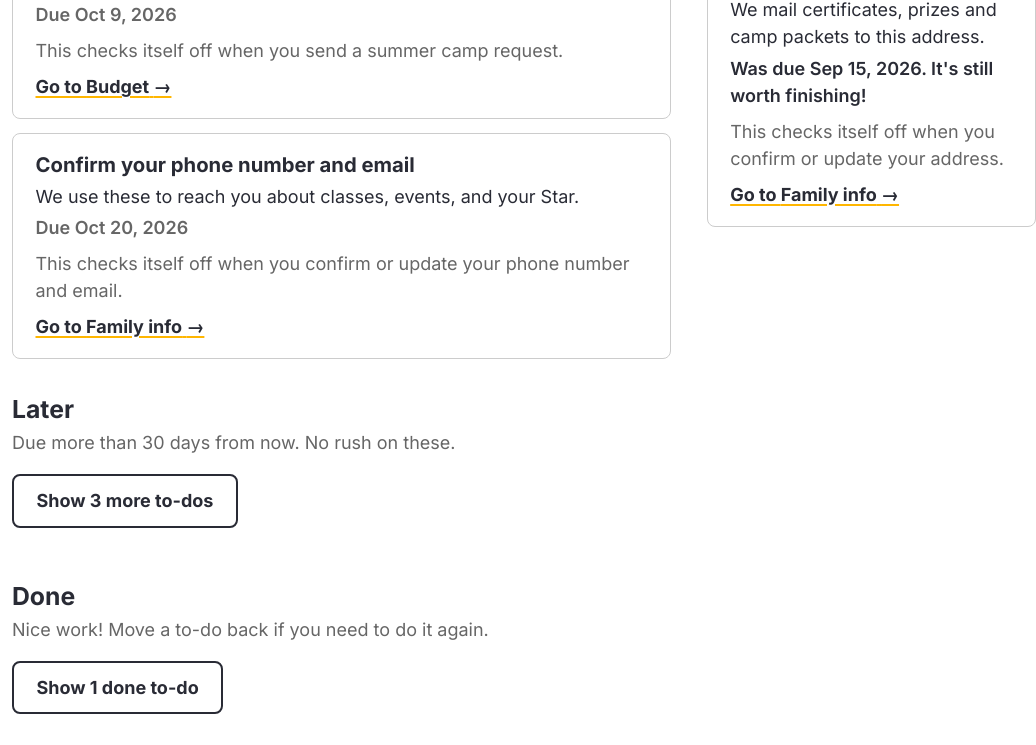
Test case: TodosTab › moves a done to-do back with its undo button
(page scrolled)
Click the button "Show 1 done to-do".
click(118, 688)  # box [12,661,223,714]
(page scrolled)
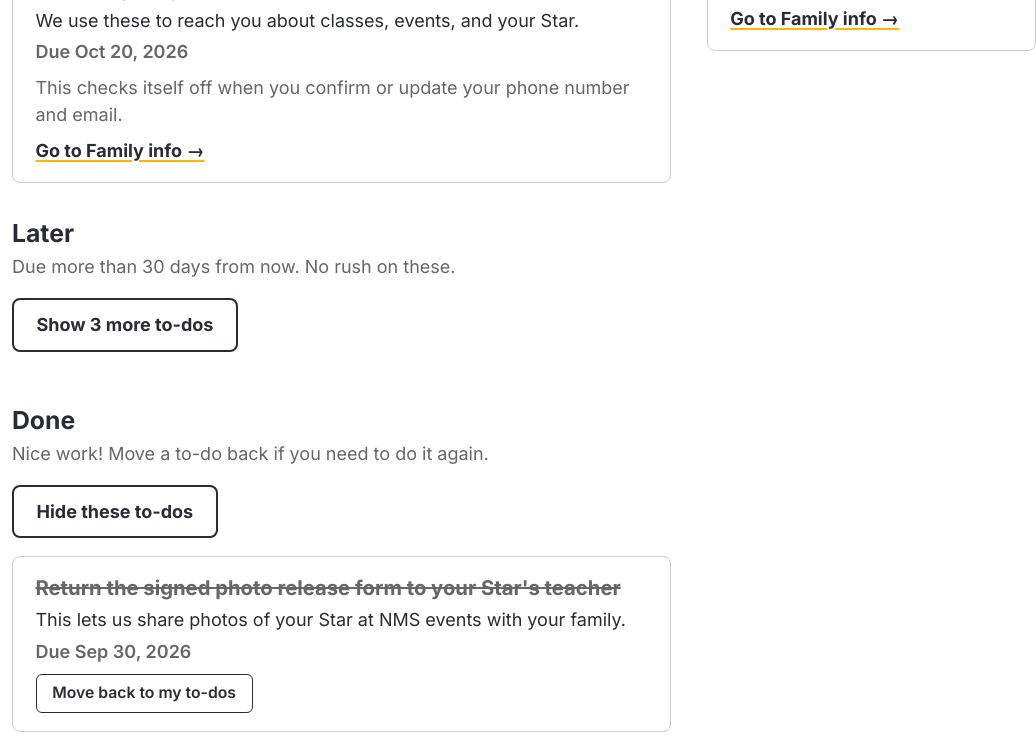
Click the button "Move back to my to-dos".
click(144, 693)  # box [36,674,253,713]
(page scrolled)
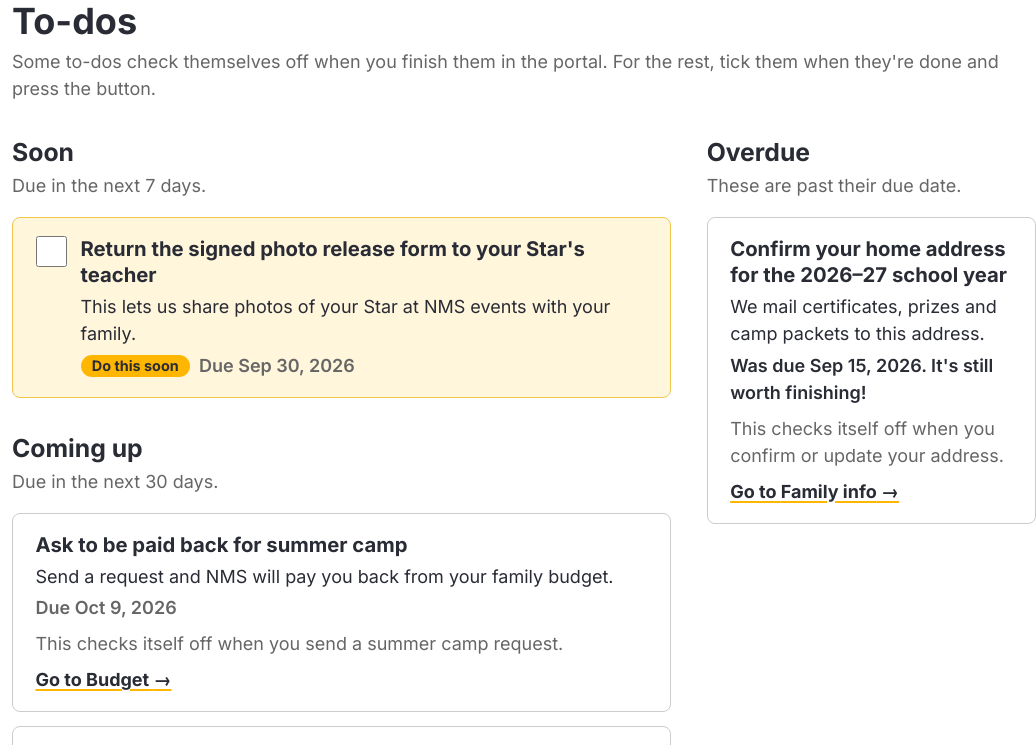
Expected: the element "Done" is not shown
Expected: the checkbox labelled "Return the signed photo release form to your Star's teacher" is not checked, [36,236,67,267]
